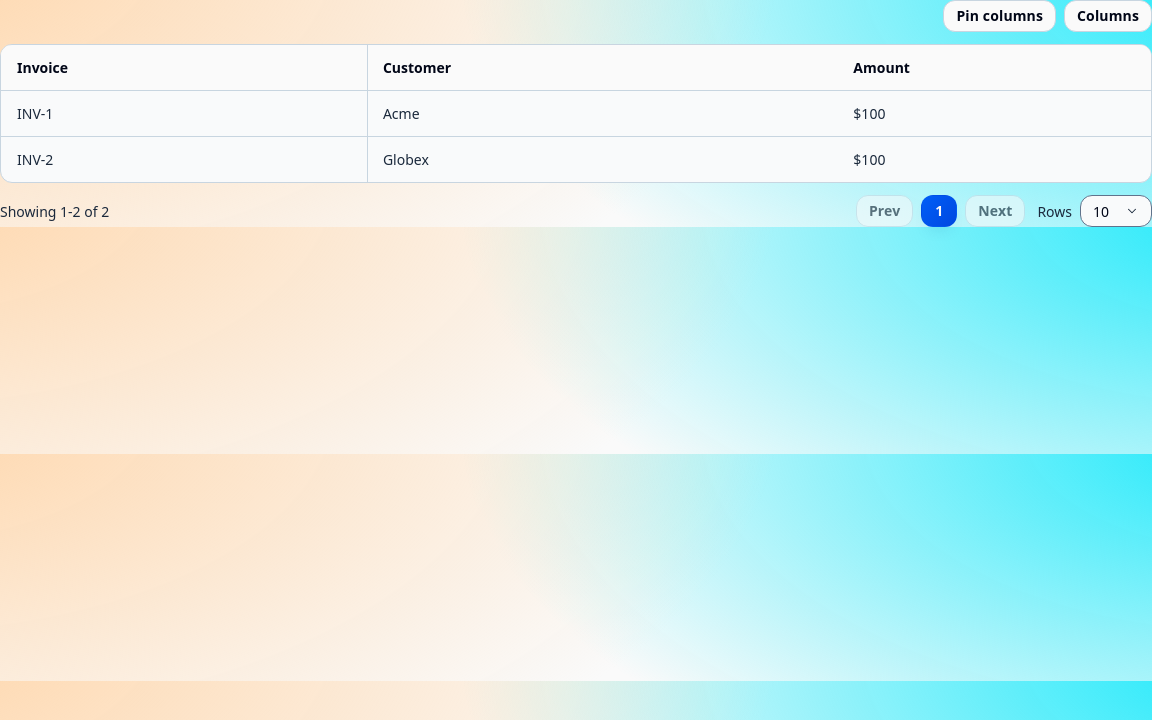
Test case: DataTableV2 › keeps pin preference when pinned column is hidden and shown again
This screenshot has width=1152, height=720.
Click the button "Columns" at (1108, 16), box [1064,0,1151,32]
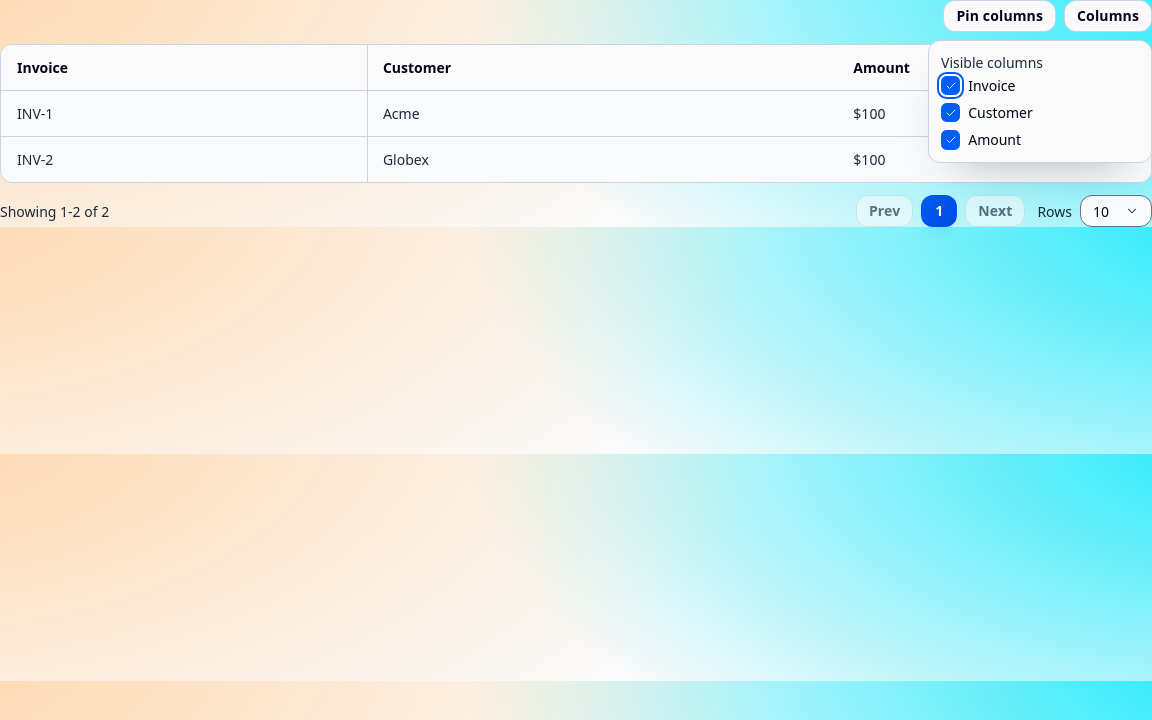
Click the checkbox named "Toggle column Invoice" at (951, 86), box [941,76,960,95]
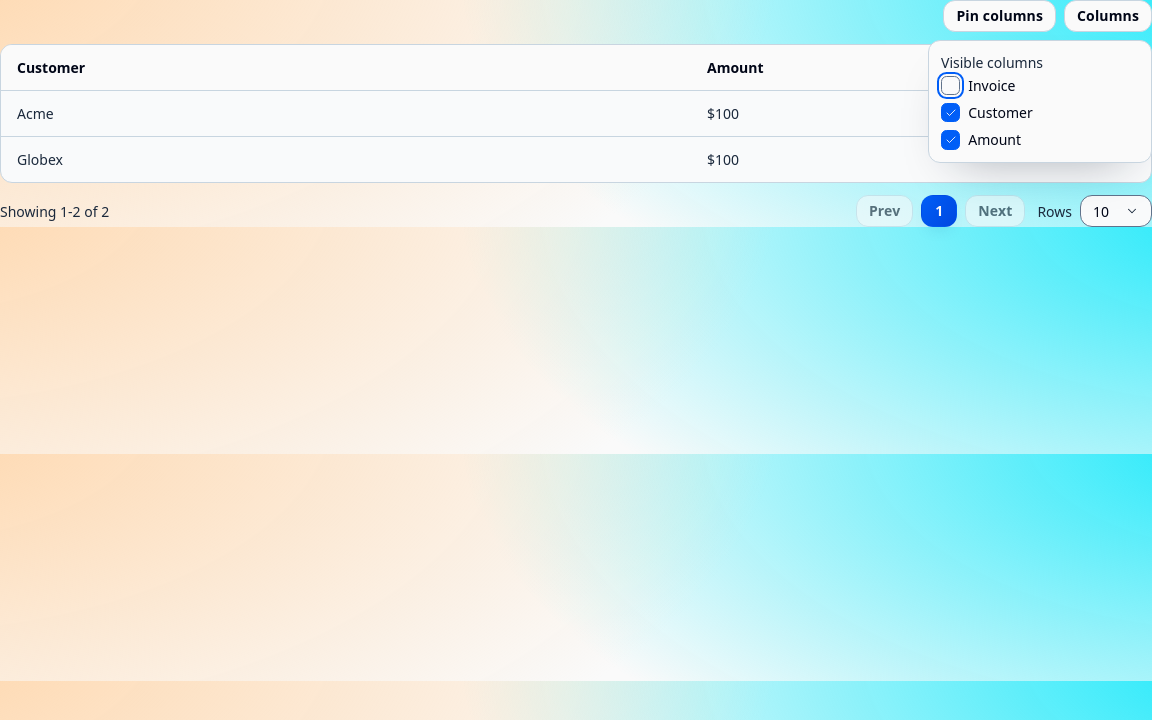
Click the checkbox named "Toggle column Invoice" at (951, 86), box [941,76,960,95]
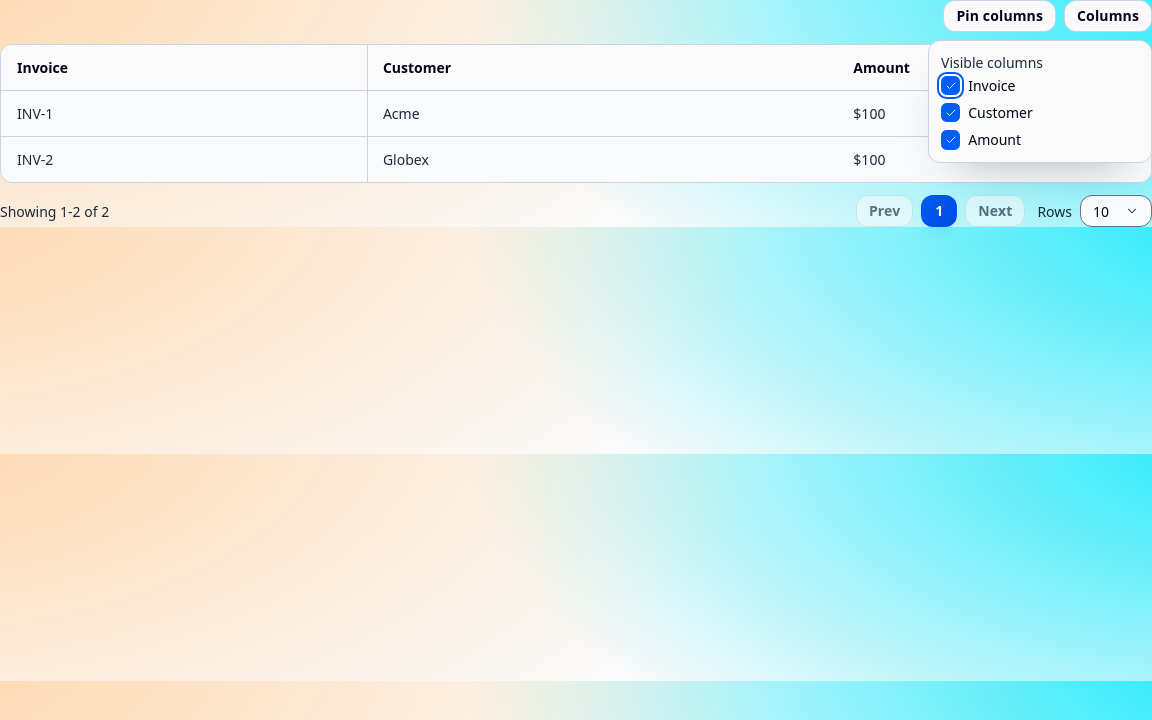
Expected: the 1st text "Invoice" is shown, [17,57,68,78]
